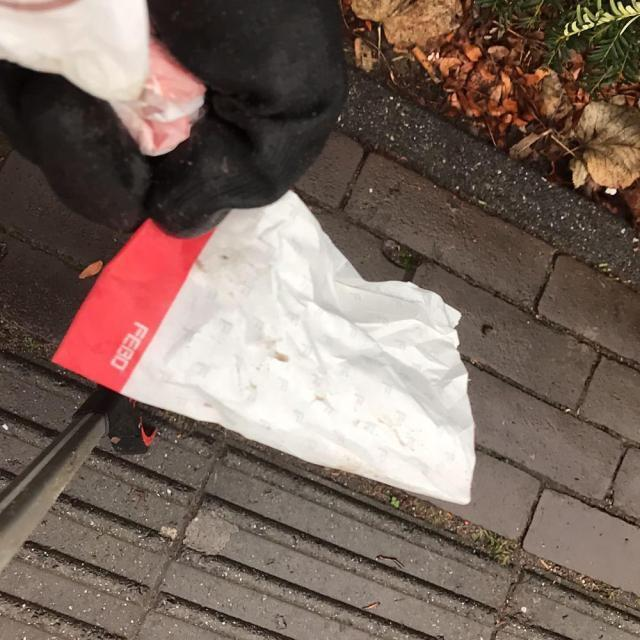Paper: (46, 184, 478, 508)
